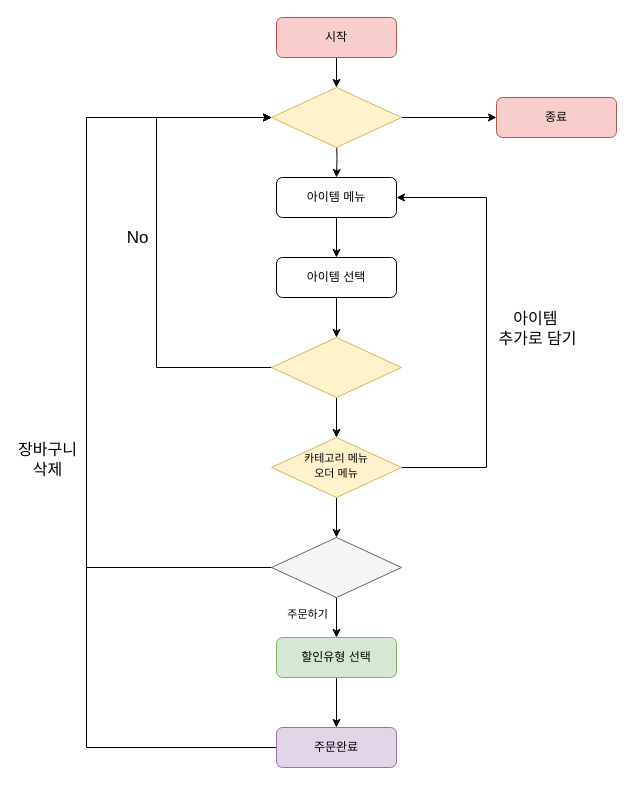
This 634x785 diagram has some shape labels left out. The shapes that lost their labels are listed below. From the top down, each one's centre as x and y in pixels, then its label:
the point at 336,117: 카테고리 메뉴
the point at 336,367: 장바구니 추가?
the point at 336,567: 오더메뉴
